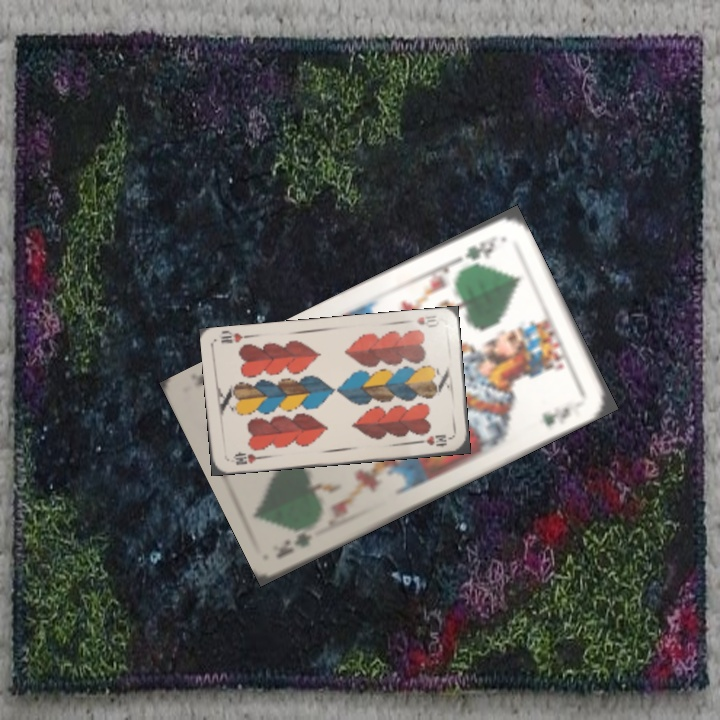GK: (451, 232, 500, 266), (273, 528, 316, 561)
H10: (229, 449, 266, 468), (413, 311, 441, 330)
